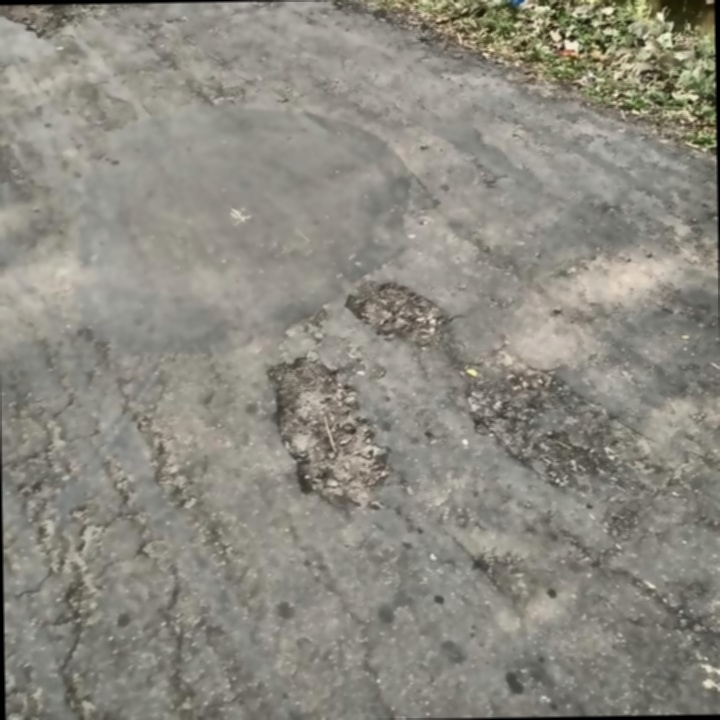pothole: (460, 346, 656, 491), (269, 350, 393, 515), (342, 279, 457, 355), (0, 4, 109, 40)
